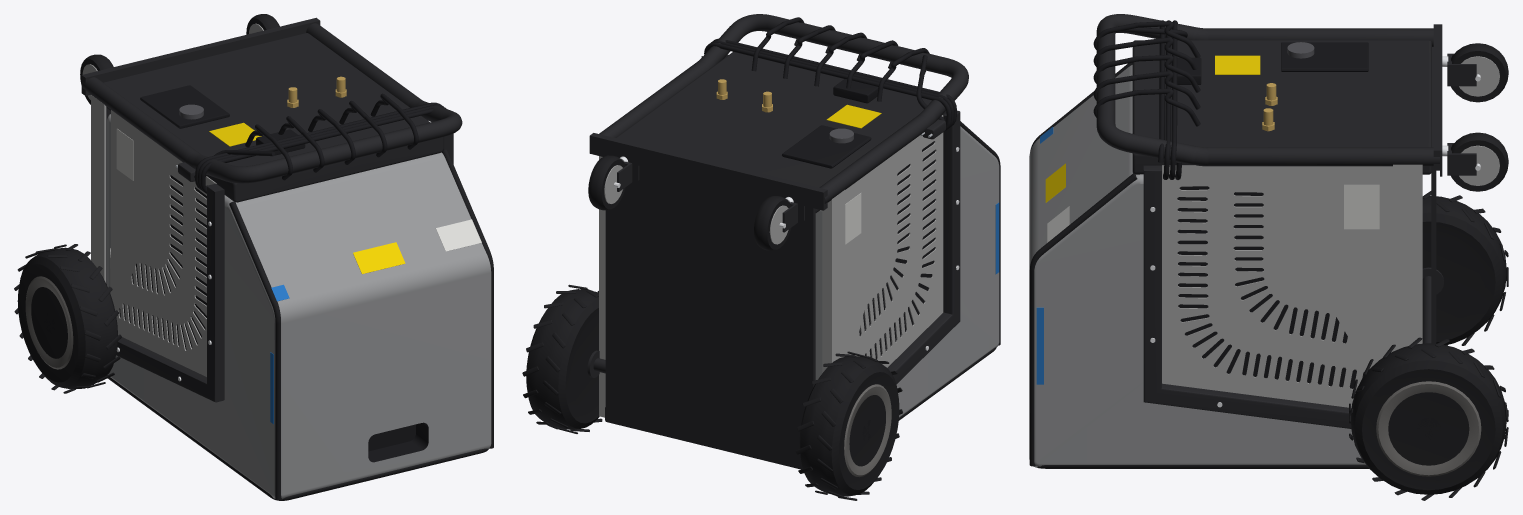
The model's file is cistic.glb.
3 renders of one model, left to right at view 1: azimuth 30°, elevation 25°; view 2: azimuth 150°, elevation 25°; view 3: azimuth 270°, elevation 25°, orthographic. The views are drawn at different scales.
Visible parts, largest first — view 1: kryt_plech, zadni_skrin, panel_deroveny, pneu, rukojet_u, ram_bok, lem_bok (×2), zadni_pricka, kabel_smycky, lista_spodni_svisla, zadni_pouzdro, panel_podklad (+9 smaller); view 2: podlaha, zadni_skrin, panel_deroveny, pneu (×2), kryt_plech, rukojet_u, zadni_pricka, ram_bok, lista_spodni (×2), behoun (×2), kabel_smycky, kolecko_pneu (×2) (+8 smaller); view 3: panel_deroveny, kryt_plech, zadni_skrin, pneu (×2), rukojet_u, ram_bok, panel_podklad, lista_spodni_svisla, kabel_smycka (×5), disk, kolecko_pneu (×2), zadni_pouzdro (+13 smaller).
Boxes of the visible parts, x1,y1,x2,y2 form: kryt_plech: [107, 114, 491, 499]; zadni_skrin: [103, 33, 443, 202]; panel_deroveny: [110, 110, 216, 376]; pneu: [17, 247, 117, 388]; rukojet_u: [82, 23, 462, 183]; ram_bok: [116, 183, 224, 402]; lem_bok (×2): [229, 149, 493, 500]; zadni_pricka: [81, 17, 320, 95]; kabel_smycky: [195, 102, 446, 193]; lista_spodni_svisla: [94, 97, 106, 283]; zadni_pouzdro: [140, 85, 229, 128]; panel_podklad: [119, 175, 216, 349]; podlaha: [605, 166, 815, 469]; zadni_skrin: [616, 52, 946, 212]; panel_deroveny: [845, 115, 943, 367]; pneu (×2): [526, 289, 899, 496]; kryt_plech: [815, 126, 999, 417]; rukojet_u: [599, 14, 968, 203]; zadni_pricka: [589, 133, 827, 210]; ram_bok: [887, 110, 960, 384]; lista_spodni (×2): [599, 156, 835, 417]; behoun (×2): [522, 284, 902, 500]; kabel_smycky: [701, 38, 956, 130]; kolecko_pneu (×2): [588, 155, 791, 250]; panel_deroveny: [1162, 165, 1392, 407]; kryt_plech: [1029, 65, 1365, 467]; zadni_skrin: [1132, 40, 1431, 174]; pneu (×2): [1351, 196, 1506, 494]; rukojet_u: [1096, 14, 1439, 166]; ram_bok: [1143, 165, 1351, 428]; panel_podklad: [1162, 165, 1364, 388]; lista_spodni_svisla: [1393, 164, 1415, 351]; kabel_smycka (×5): [1093, 21, 1200, 126]; disk: [1376, 381, 1481, 476]; kolecko_pneu (×2): [1451, 43, 1508, 191]; zadni_pouzdro: [1281, 42, 1368, 71].
Bounding box in the file's own units: 650 × 650 × 780.
